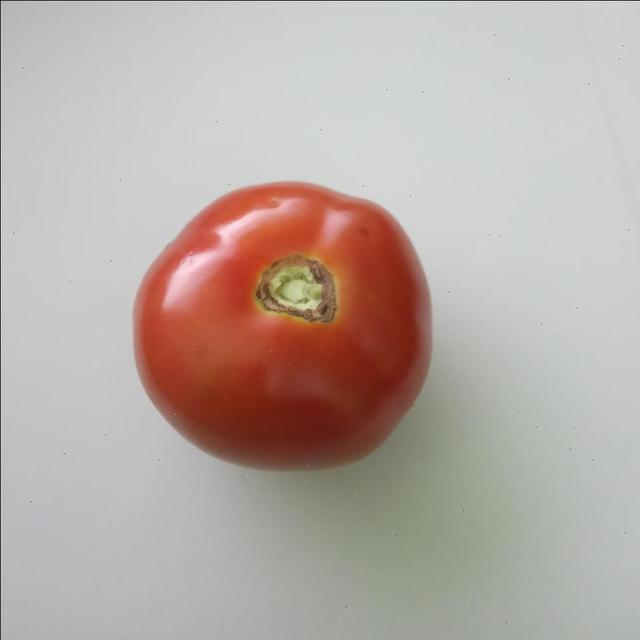Healthy Fruit: (71, 114, 309, 321)
